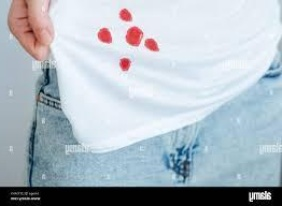blood: (125, 27, 143, 46), (97, 28, 112, 44), (144, 38, 159, 52), (119, 9, 132, 23), (119, 58, 130, 71)
